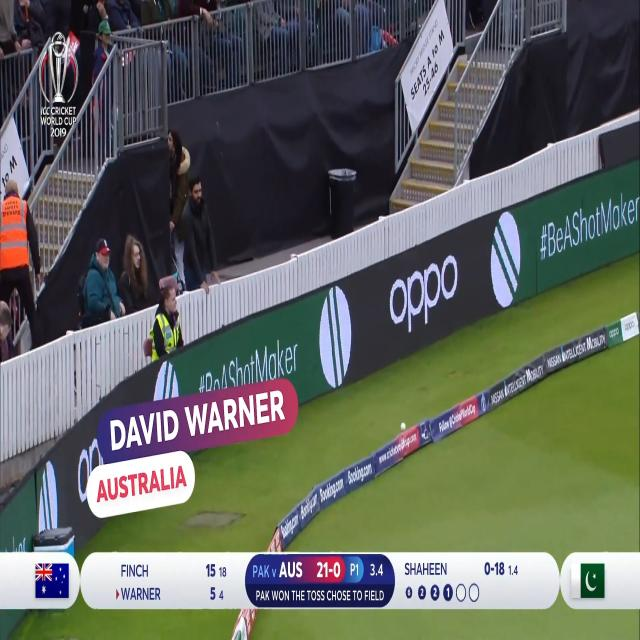ball: (398, 419, 408, 437)
